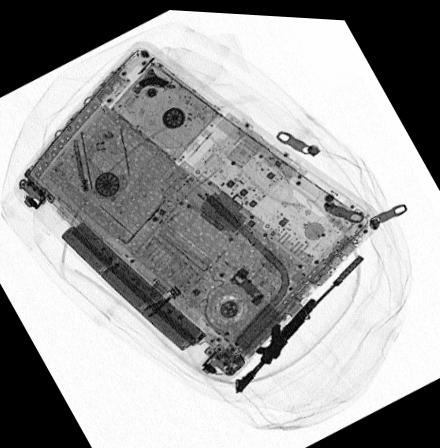Gun: (232, 248, 364, 391)
